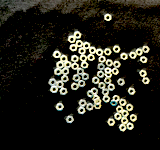nut: (56, 104, 65, 112), (50, 86, 59, 94), (74, 31, 82, 40), (119, 125, 127, 133), (108, 119, 116, 127), (126, 104, 134, 112), (116, 106, 124, 114), (119, 99, 127, 107), (79, 100, 87, 108), (93, 95, 101, 103), (87, 91, 95, 99), (91, 88, 99, 96), (103, 96, 111, 104), (128, 88, 136, 96), (139, 70, 147, 78), (60, 88, 68, 96), (56, 81, 64, 89), (49, 79, 57, 87), (61, 75, 69, 83), (71, 83, 79, 91), (78, 80, 86, 88), (73, 75, 81, 83), (62, 68, 70, 76), (112, 68, 120, 76), (113, 46, 121, 54), (96, 49, 104, 57), (81, 62, 89, 70), (60, 55, 68, 63), (53, 51, 61, 59), (88, 54, 96, 62), (89, 47, 97, 55), (70, 44, 78, 52), (83, 42, 91, 50), (76, 40, 84, 48), (68, 36, 76, 44), (127, 123, 134, 131), (121, 118, 129, 125), (66, 117, 74, 124), (78, 108, 86, 115), (87, 104, 94, 112), (94, 103, 102, 110), (95, 99, 102, 107), (110, 100, 118, 107), (113, 95, 120, 103), (102, 89, 110, 96), (118, 79, 125, 87), (142, 78, 150, 85), (140, 57, 148, 64), (108, 84, 115, 92), (99, 82, 106, 90), (93, 77, 100, 85), (55, 69, 62, 77), (82, 73, 89, 81), (104, 78, 112, 85), (104, 68, 112, 75), (77, 68, 84, 76), (72, 63, 79, 71), (98, 63, 105, 71), (106, 60, 114, 67), (114, 61, 121, 69), (121, 53, 128, 61), (99, 56, 106, 64), (104, 49, 112, 56), (65, 61, 72, 69), (57, 62, 65, 69), (72, 55, 79, 63), (80, 55, 88, 62), (105, 14, 112, 22), (130, 115, 137, 122), (115, 114, 122, 121), (122, 111, 129, 118), (98, 72, 105, 79), (143, 47, 150, 54), (136, 49, 143, 56), (130, 52, 137, 59), (79, 48, 86, 55), (105, 73, 113, 79)
